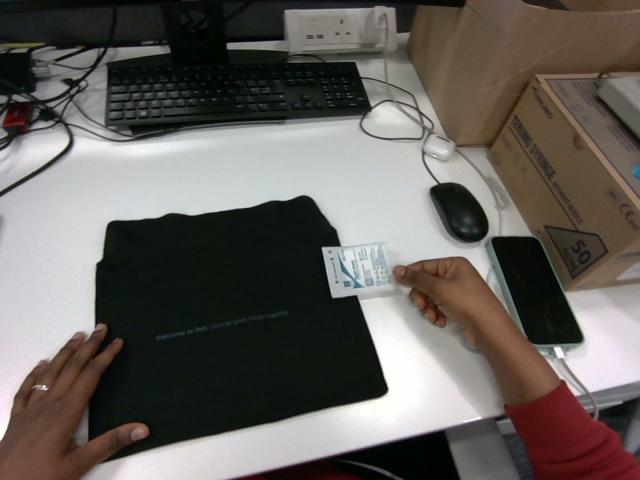gauze: (322, 244, 393, 297)
